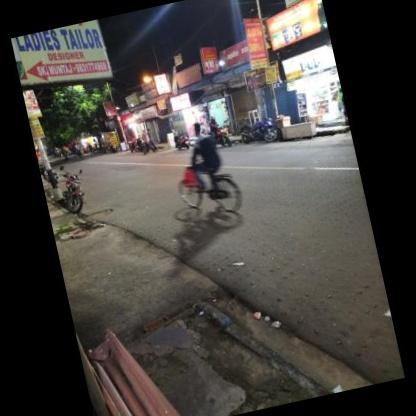Bicycle: (162, 156, 249, 231)
